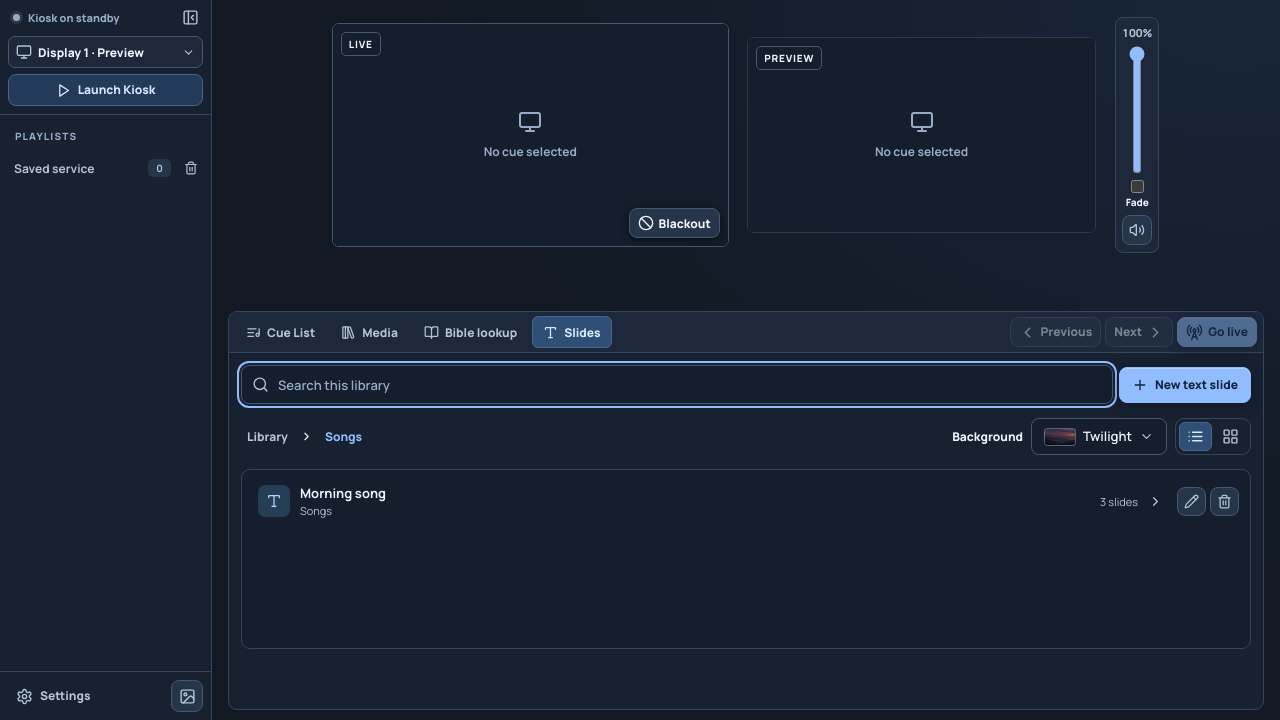
Scenario: opens slide sets and presents the chosen entry in List view
Earlier steps of the test are not shown.
Later steps or results of the test are not shown.
Click the button named "List view" at (1196, 436), box left=1179, top=422, right=1212, bottom=451
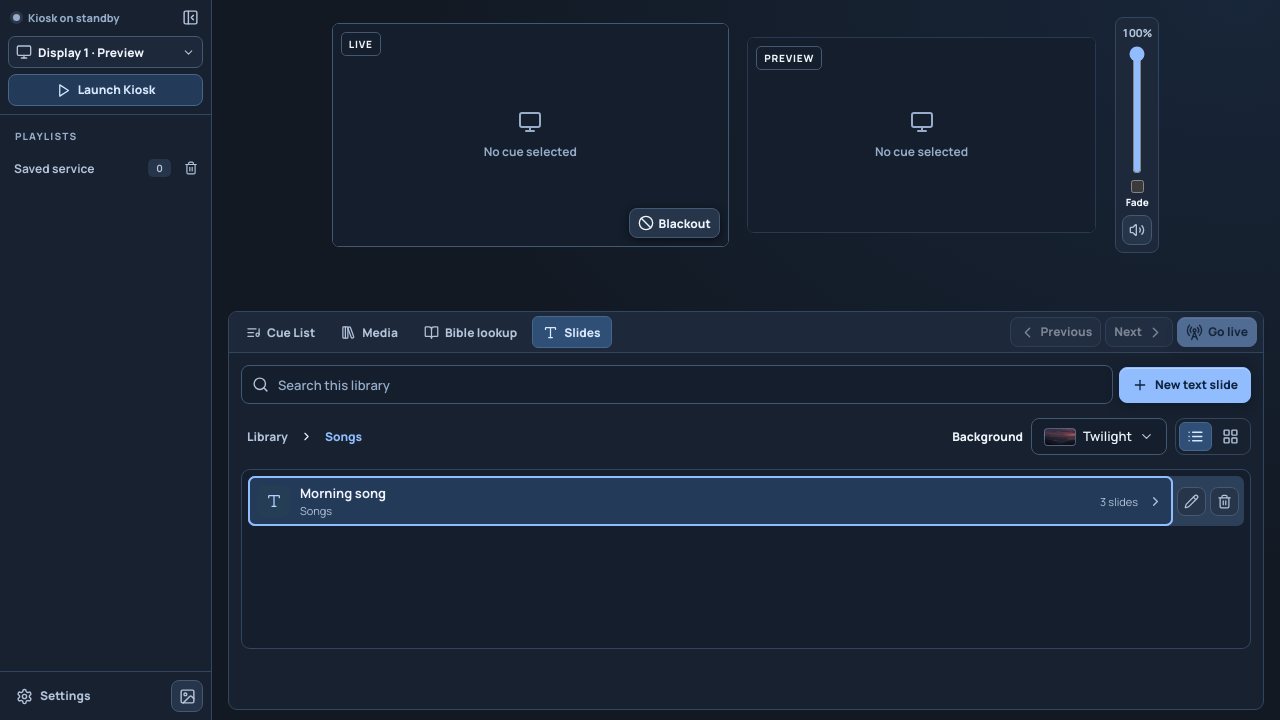
Press Space in the button "Morning song Songs 3 slides", box left=248, top=476, right=1173, bottom=526
Click the button "Morning song Songs 3 slides" at (274, 501), box left=248, top=476, right=1173, bottom=526
Expected: the button "Songs" is shown, left=319, top=422, right=368, bottom=450
Click the button "Morning song Songs 3 slides" at (274, 501), box left=248, top=476, right=1173, bottom=526
Double-click the button "Morning song Songs 3 slides" at (274, 501), box left=248, top=476, right=1173, bottom=526
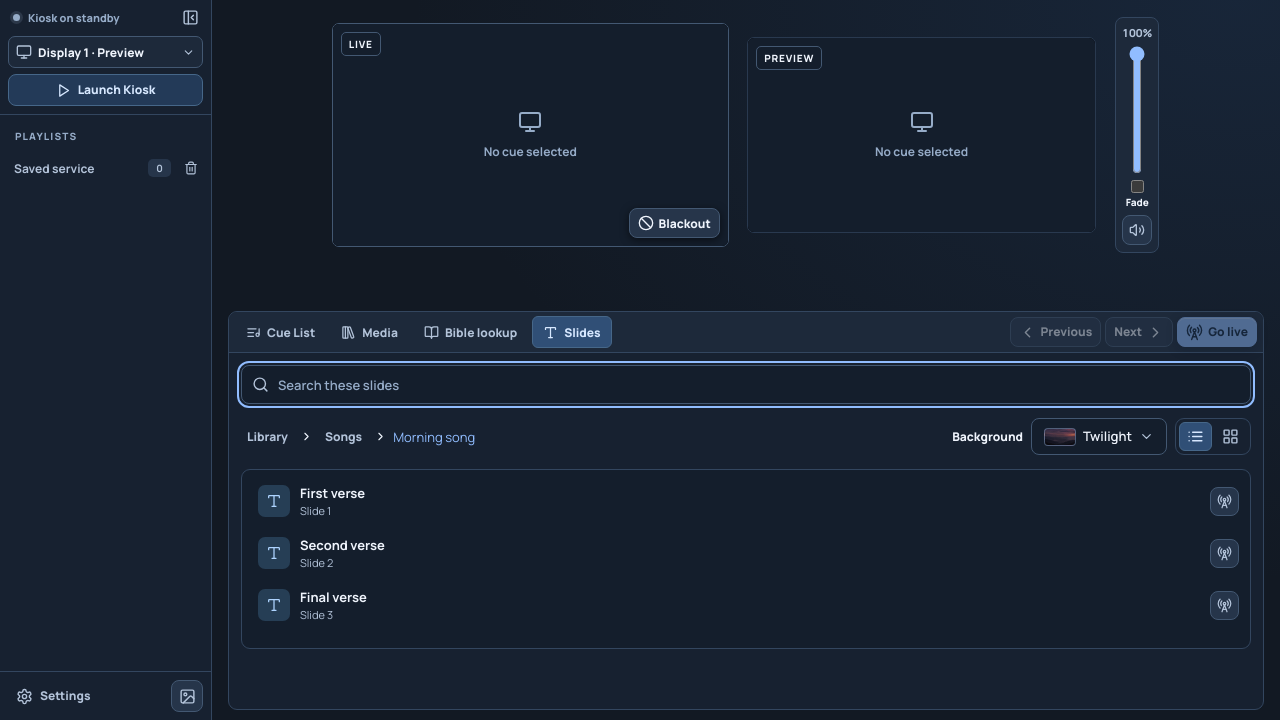
Now the text "Morning song" is shown, box left=393, top=428, right=475, bottom=446
Click the button "First verse Slide 1" at (274, 501), box left=248, top=476, right=1206, bottom=526
Double-click the button "First verse Slide 1" at (274, 501), box left=248, top=476, right=1206, bottom=526
Click the button "Second verse Slide 2" at (274, 553), box left=248, top=528, right=1206, bottom=578
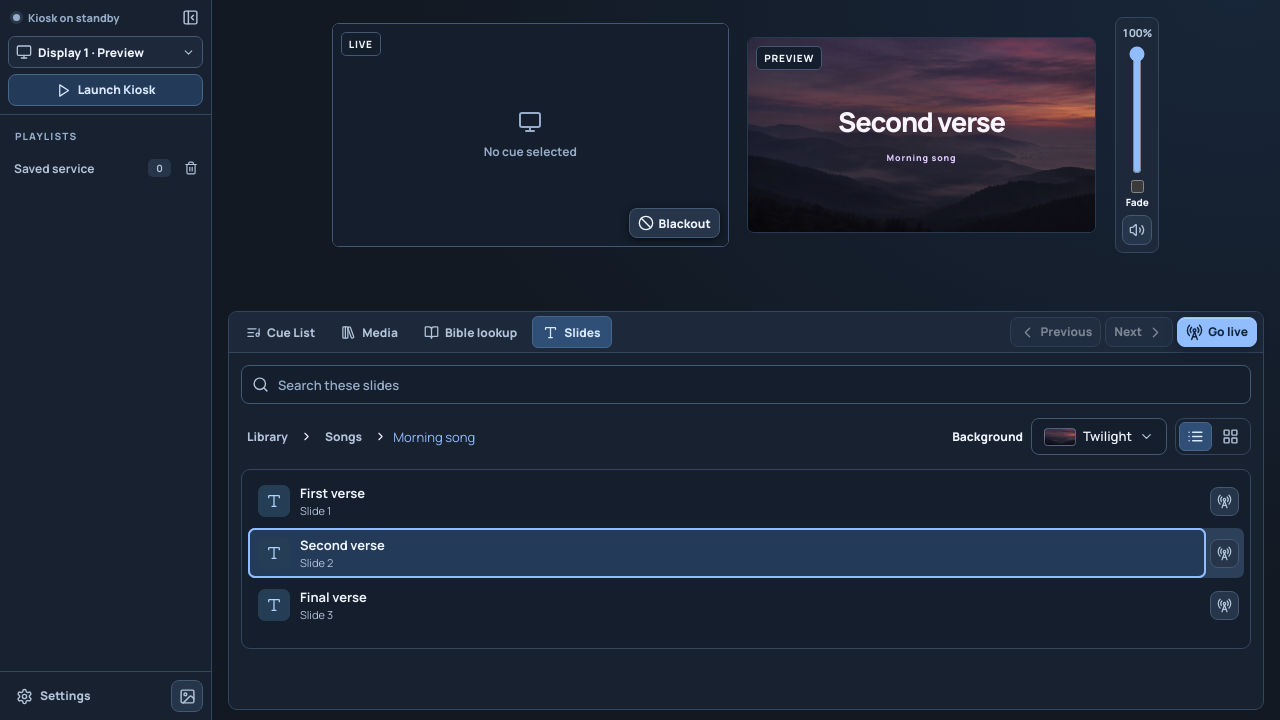
Now the text with class "slide-text" reads "Second verse", box left=838, top=103, right=1005, bottom=140
